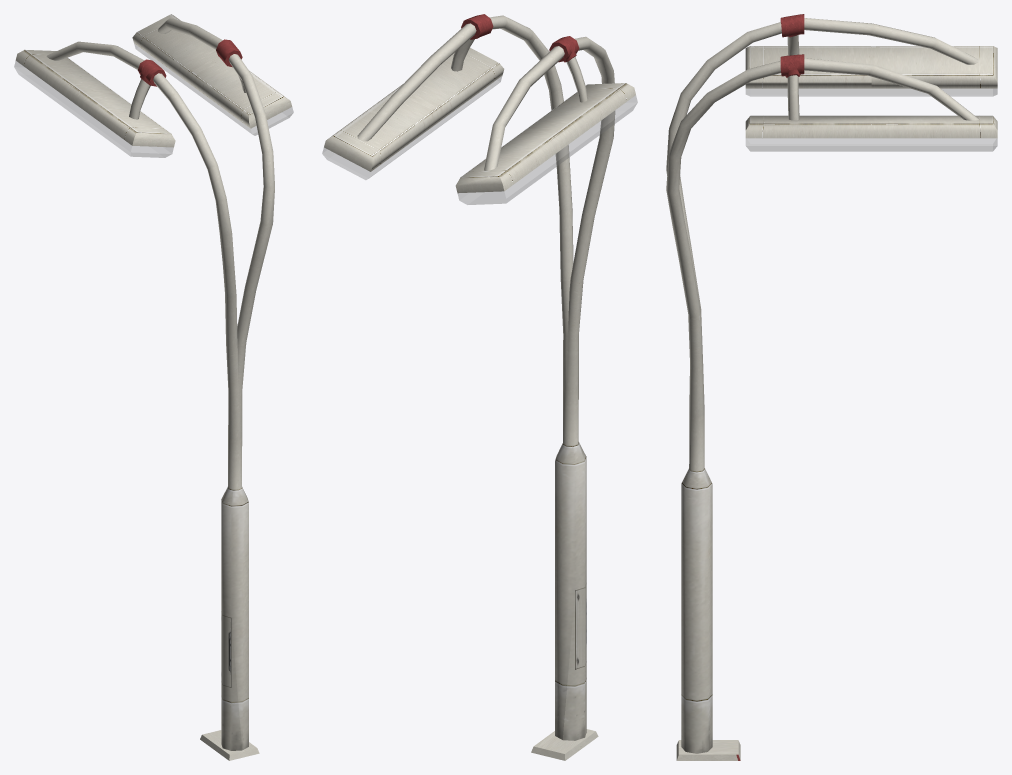
The model's file is Model_Streetlight_03.fbx.
3 renders of one model, left to right at view 1: azimuth 30°, elevation 25°; view 2: azimuth 150°, elevation 25°; view 3: azimuth 270°, elevation 25°, orthographic. The views are drawn at different scales.
Visible parts, largest first — view 1: Streetlights; view 2: Streetlights; view 3: Streetlights.
Part boxes in pixels (<box>): Streetlights: <box>14,14,293,760</box>; Streetlights: <box>322,14,637,760</box>; Streetlights: <box>666,14,997,760</box>.
Bounding box in the file's own units: 126 × 490 × 205.
